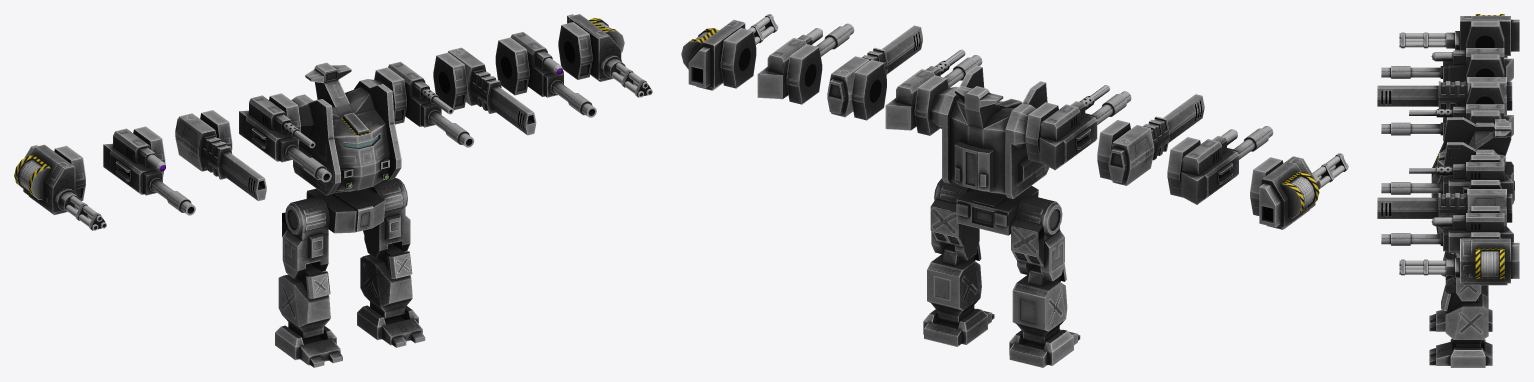
The model's file is Jagermech_ex.FBX.
3 views of the same model, side by side, from view 1: azimuth 30°, elevation 25°; view 2: azimuth 150°, elevation 25°; view 3: azimuth 270°, elevation 25° (orthographic). The views are drawn at different scales.
Visible parts, largest first — view 1: rupperarm (×4), torso, 7F_luppera, lupperleg, 7d_lupperarm, lupperarm, llowerleg, rlowerleg, DG_luppera, barrel_1 (×3), barrel_2 (×3), rupperleg (+5 smaller); view 2: rupperarm (×4), torso, 7F_luppera, 7d_lupperarm, lupperarm, lupperleg, DG_luppera, llowerleg, rlowerleg, rupperleg, pelvis, barrel_2 (×3) (+4 smaller); view 3: rupperarm (×4), torso, barrel_1 (×3), barrel_2 (×3), rlowerleg, 7d_lupperarm, 7F_luppera, DG_luppera, rfoot, lupperarm, barrels_2, barrels_1 (+5 smaller).
Boxes of the visible parts, x1,y1,x2,y2 form: rupperarm (×4): (374, 14, 624, 127); torso: (291, 62, 401, 195); 7F_luppera: (14, 144, 85, 215); lupperleg: (282, 196, 329, 278); 7d_lupperarm: (103, 126, 165, 195); lupperarm: (239, 93, 300, 162); llowerleg: (278, 263, 330, 340); rlowerleg: (360, 243, 412, 320); DG_luppera: (175, 110, 232, 179); barrel_1 (×3): (429, 81, 596, 147); barrel_2 (×3): (151, 146, 331, 215); rupperleg: (363, 178, 410, 258); rupperarm (×4): (681, 19, 949, 135); torso: (929, 65, 1049, 198); 7F_luppera: (1250, 156, 1319, 229); 7d_lupperarm: (1167, 129, 1238, 204); lupperarm: (1025, 95, 1097, 170); lupperleg: (1011, 195, 1064, 281); DG_luppera: (1097, 116, 1169, 185); llowerleg: (1012, 264, 1067, 345); rlowerleg: (927, 243, 981, 324); rupperleg: (930, 178, 979, 260); pelvis: (956, 185, 1038, 235); barrel_2 (×3): (1092, 91, 1273, 159); rupperarm (×4): (1431, 155, 1519, 285); torso: (1431, 117, 1514, 204); barrel_1 (×3): (1377, 182, 1440, 245); barrel_2 (×3): (1377, 66, 1440, 135); rlowerleg: (1441, 285, 1488, 347); 7d_lupperarm: (1431, 48, 1513, 82); 7F_luppera: (1455, 14, 1519, 58); DG_luppera: (1438, 77, 1512, 114); rfoot: (1429, 338, 1492, 367); lupperarm: (1436, 104, 1513, 140); barrels_2: (1399, 32, 1454, 48); barrels_1: (1399, 259, 1454, 275).
Bounding box in the file's own units: 174 × 71.69 × 42.51.
1 material, 1 textured.
